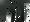person: (25, 4, 30, 22), (17, 10, 22, 22), (7, 13, 12, 22)
